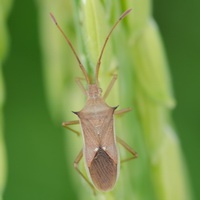insect: (50, 9, 137, 192)
